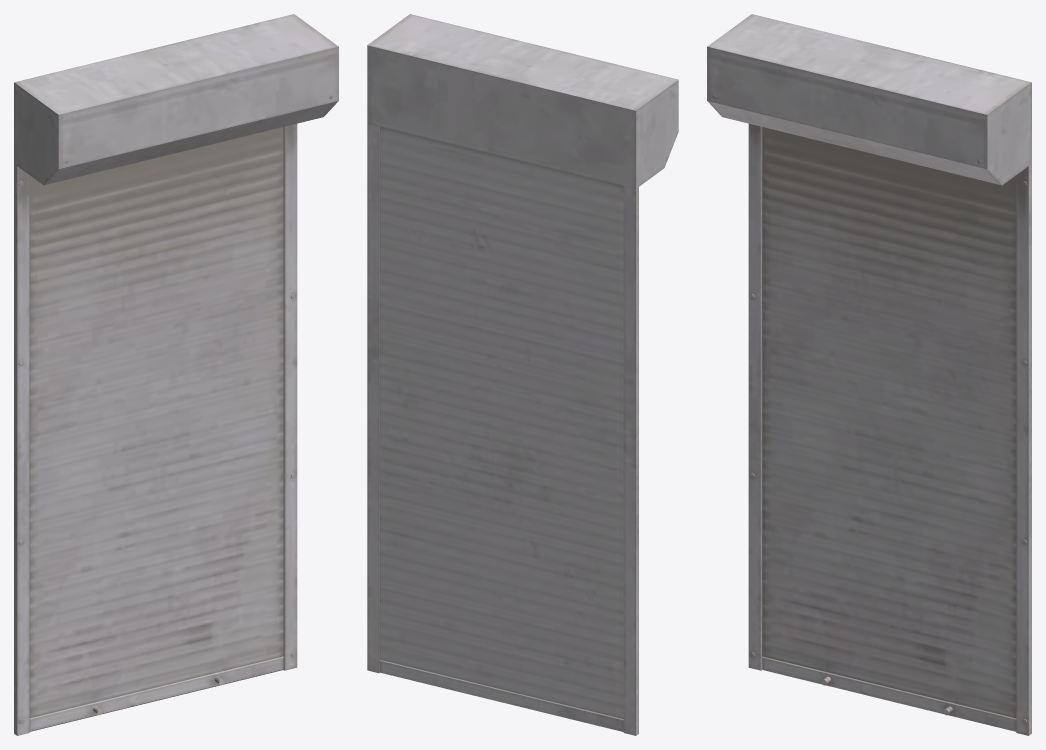
The model's file is roller-shutter--1.gltf.
The picture shows the model from 3 angles, left to right: view 1: azimuth 30°, elevation 25°; view 2: azimuth 150°, elevation 25°; view 3: azimuth 330°, elevation 25°; orthographic projection. The views are drawn at different scales.
Parts seen in each view (by area): view 1: rollershutter_door; view 2: rollershutter_door; view 3: rollershutter_door.
Part boxes in pixels (x1,y1,x2,y2): rollershutter_door: (14, 14, 338, 735); rollershutter_door: (367, 14, 678, 735); rollershutter_door: (707, 14, 1031, 735).
Bounding box in the file's own units: 1.08 × 2.4 × 0.3.
Materials: 1 (1 with a texture image).
